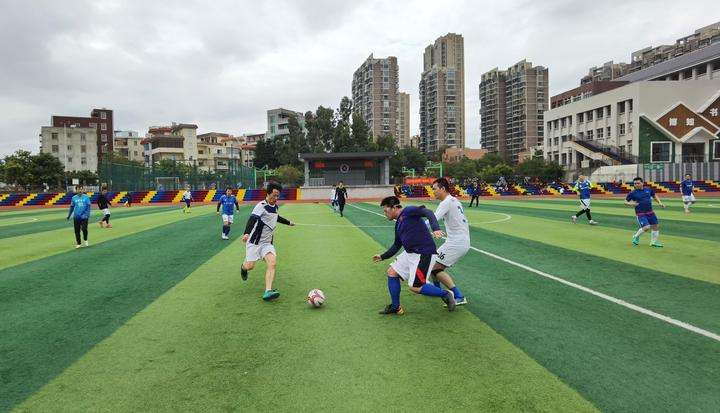football: (305, 288, 325, 308)
